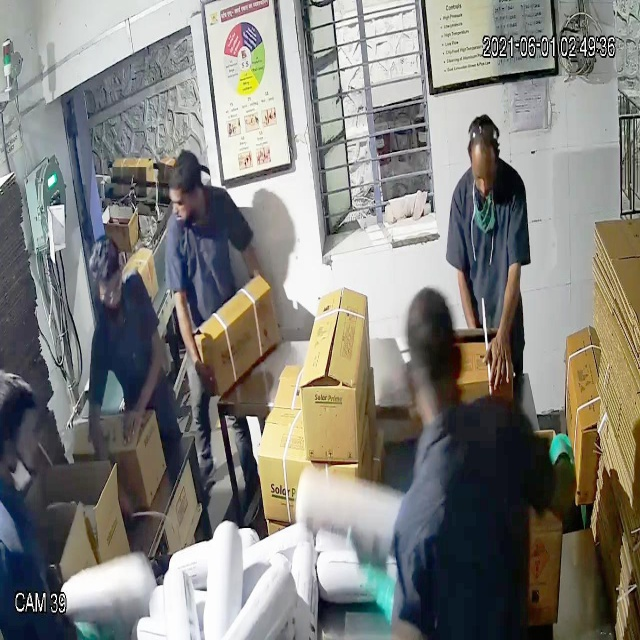Gafas: (88, 270, 127, 308)
Sin_gafas: (467, 159, 502, 187)
